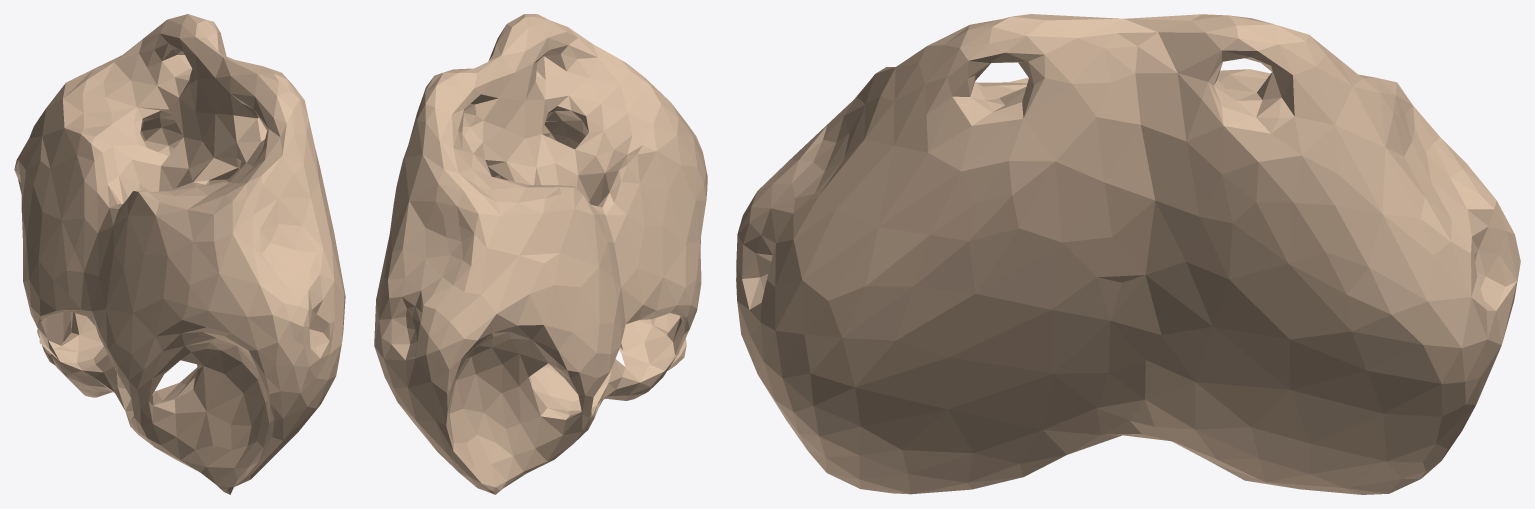
3 views of the same model, side by side, from view 1: azimuth 30°, elevation 25°; view 2: azimuth 150°, elevation 25°; view 3: azimuth 270°, elevation 25° (orthographic). The views are drawn at different scales.
Visible parts, largest first — view 1: 898.obj; view 2: 898.obj; view 3: 898.obj.
Boxes of the visible parts, x1,y1,x2,y2 form: 898.obj: (14,14,345,494); 898.obj: (374,14,707,494); 898.obj: (736,14,1520,494).
Size of the model in its own units: 754 by 1353 by 1757.
